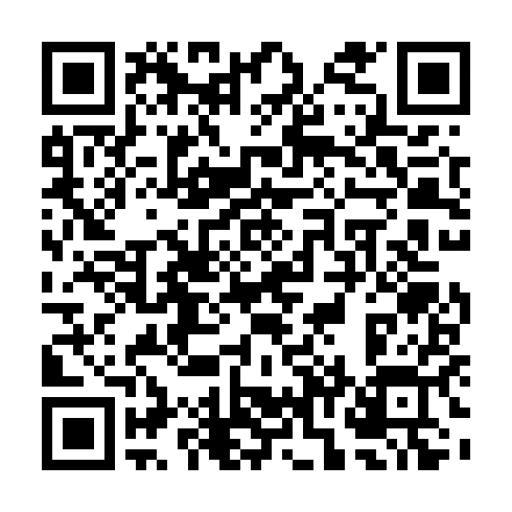qr_code: (41, 42, 471, 471)
